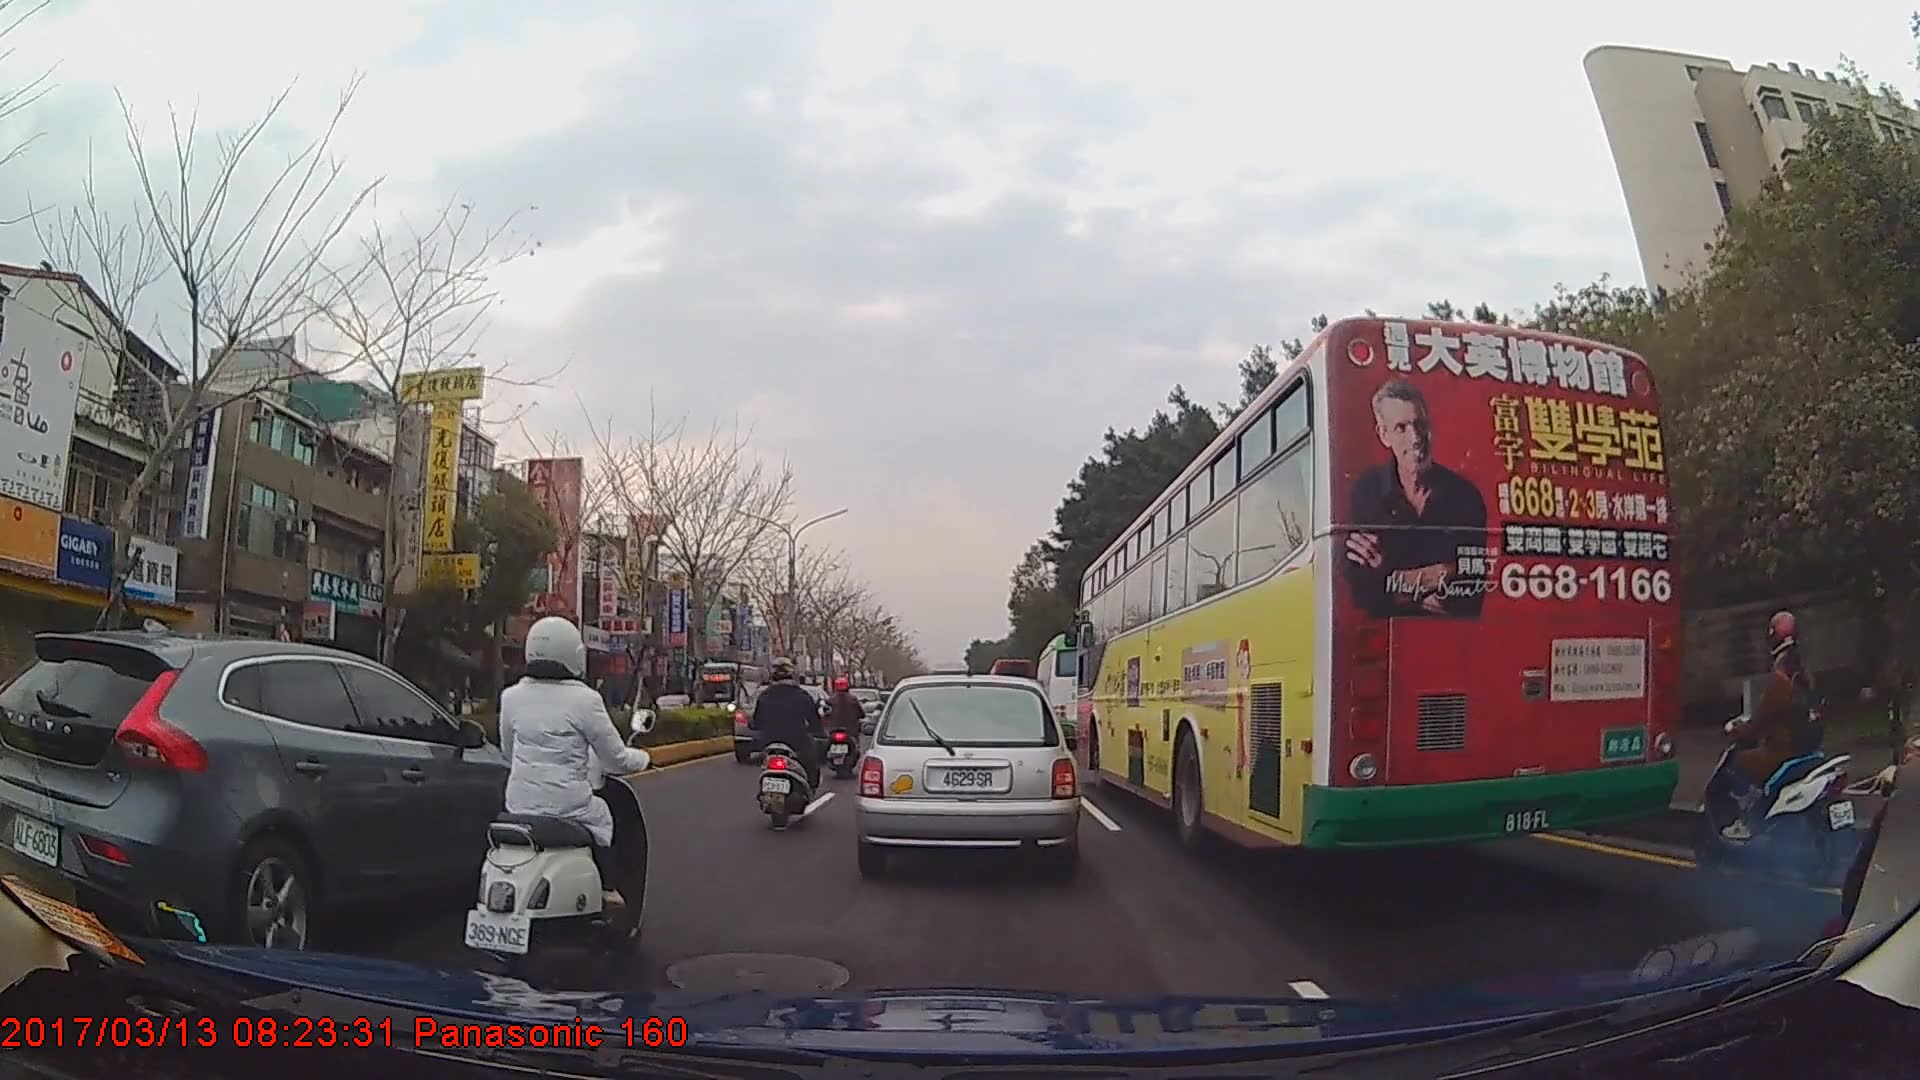rider: (469, 614, 659, 976), (1697, 607, 1860, 876), (1830, 543, 1920, 1023), (750, 661, 822, 830), (823, 678, 865, 774)
vehicle: (1074, 316, 1680, 859), (0, 631, 565, 969), (858, 670, 1077, 875), (1034, 630, 1123, 749), (731, 682, 833, 762), (694, 661, 760, 727)
